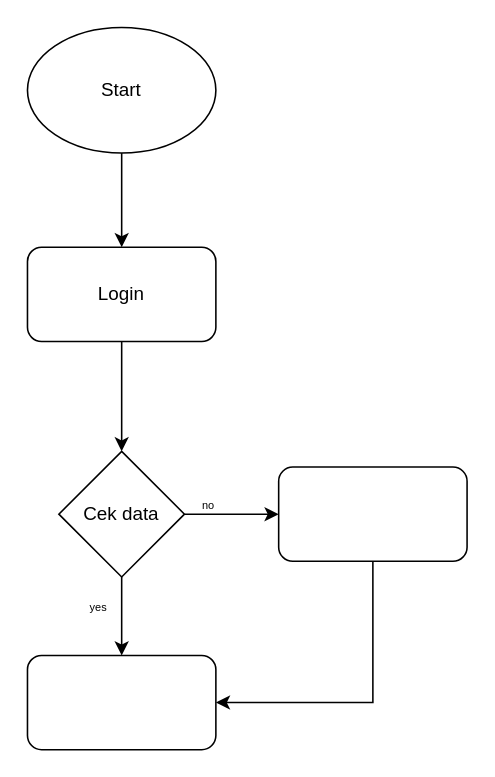
Image size: 495x777. Some labels were removed from this diagram. Here are the shapes that lost their labels. From the top down, the centre of each, then its label:
At (372,513): "register".
At (121,702): "halaman home".
